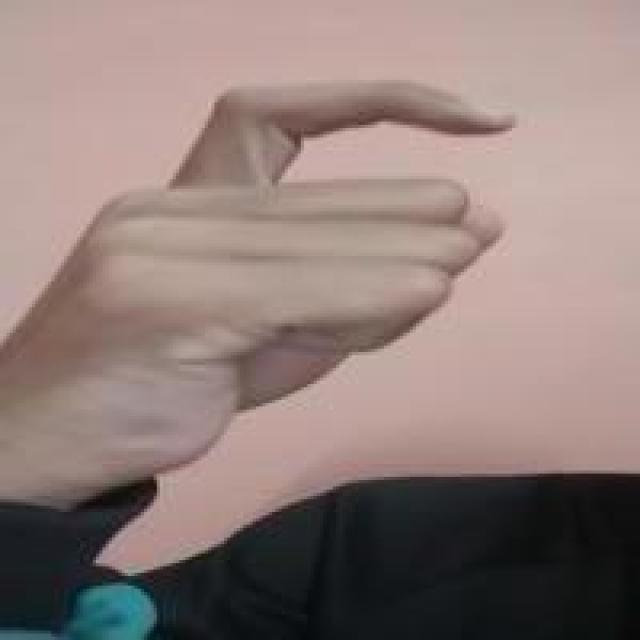X: (24, 83, 520, 458)
